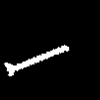half_double_crochet: (5, 45, 68, 75)
